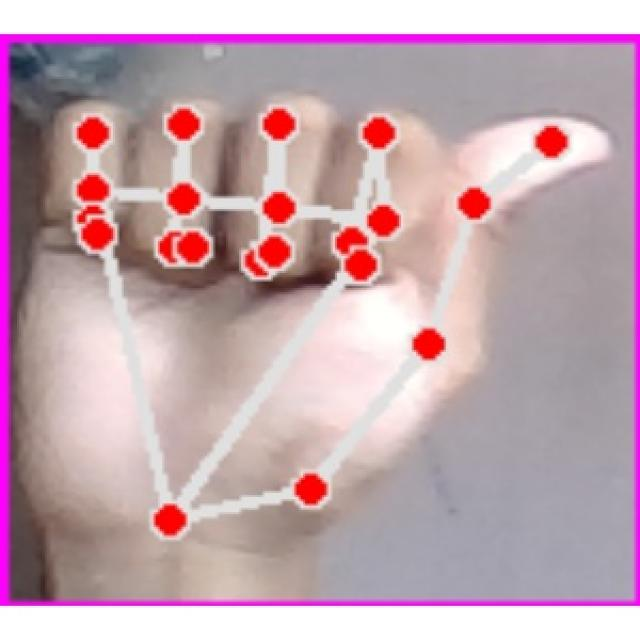A: (21, 63, 634, 548)
